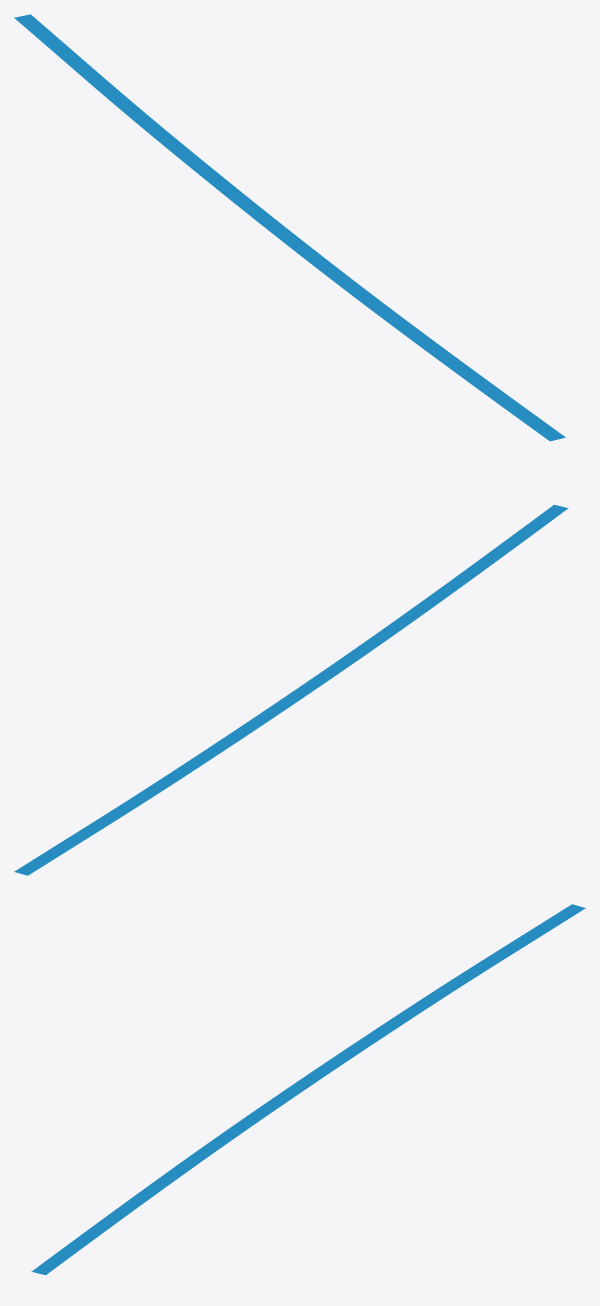
Rendered from guide.glb.
3 renders of one model, top to bottom at view 1: azimuth 30°, elevation 25°; view 2: azimuth 150°, elevation 25°; view 3: azimuth 330°, elevation 25°, orthographic. The views are drawn at different scales.
Visible parts, largest first — view 1: static; view 2: static; view 3: static.
Part boxes in pixels (x1,y1,x2,y2): static: (14, 14, 565, 441); static: (14, 504, 568, 875); static: (31, 904, 585, 1275).
Size of the model in its own units: 1.3 by 0 by 20.49.
